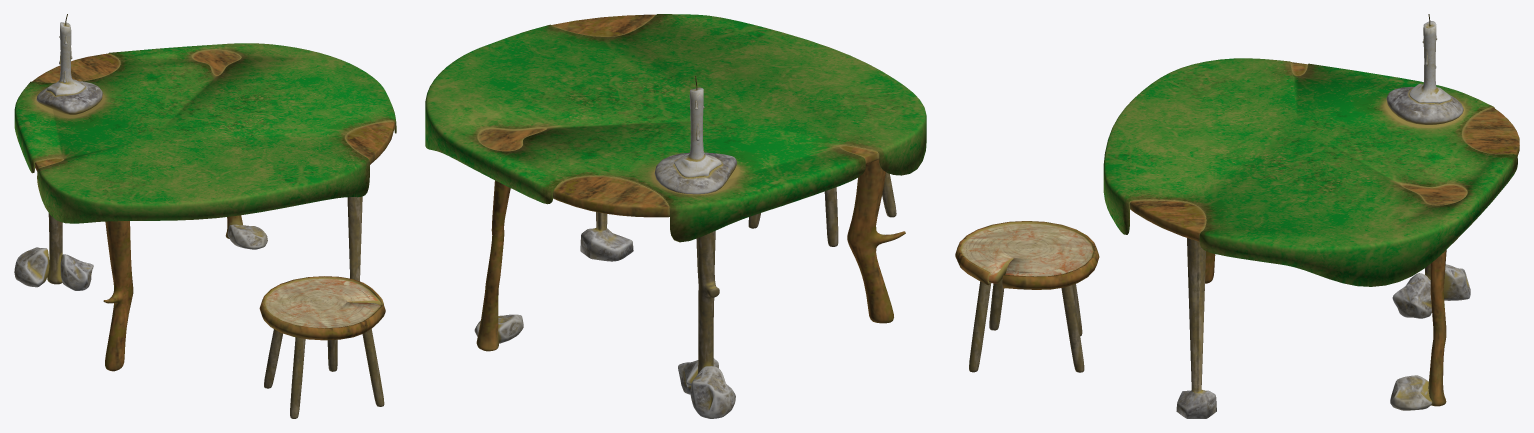
Rendered from Cardtable.fbx.
3 views of the same model, side by side, from view 1: azimuth 30°, elevation 25°; view 2: azimuth 150°, elevation 25°; view 3: azimuth 270°, elevation 25° (orthographic). The views are drawn at different scales.
Parts seen in each view (by area): view 1: CardtableL; view 2: CardtableL; view 3: CardtableL.
Boxes of the visible parts, x1,y1,x2,y2 form: CardtableL: [14, 14, 396, 418]; CardtableL: [425, 14, 926, 418]; CardtableL: [955, 14, 1519, 418].
Bounding box in the file's own units: 112 × 81.39 × 140.
